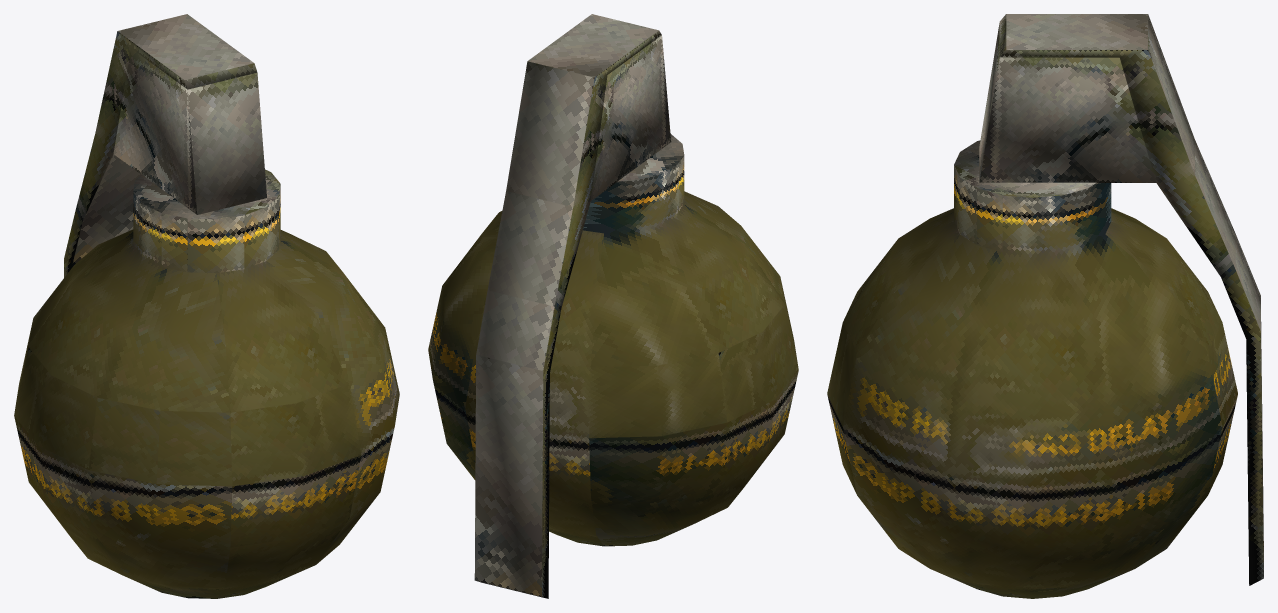
Rendered from frag.glb.
3 renders of one model, left to right at view 1: azimuth 30°, elevation 25°; view 2: azimuth 150°, elevation 25°; view 3: azimuth 270°, elevation 25°, orthographic. The views are drawn at different scales.
Visible parts, largest first — view 1: Sphere, Sphere.001; view 2: Sphere, Sphere.001; view 3: Sphere, Sphere.001.
Boxes of the visible parts, box(x1,y1,x2,y2) form: Sphere: box(14, 48, 399, 598); Sphere.001: box(64, 14, 257, 277); Sphere: box(428, 35, 798, 546); Sphere.001: box(474, 14, 661, 598); Sphere: box(827, 23, 1237, 598); Sphere.001: box(999, 14, 1263, 585).
Size of the model in its own units: 2.35 by 3.46 by 2.5.
Materials: 1 (1 with a texture image).
